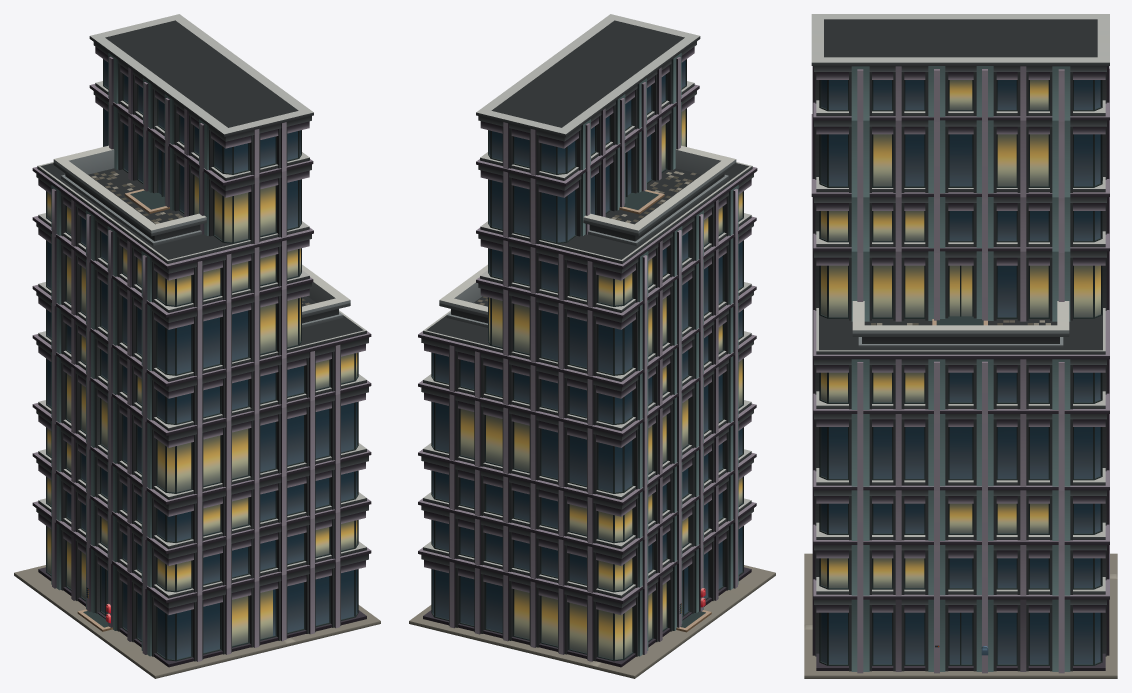
Rendered from Building_21C.fbx.
3 views of the same model, side by side, from view 1: azimuth 30°, elevation 25°; view 2: azimuth 150°, elevation 25°; view 3: azimuth 270°, elevation 25° (orthographic). The views are drawn at different scales.
Parts seen in each view (by area): view 1: Building_21C, Window_Lights_21C; view 2: Building_21C, Window_Lights_21C; view 3: Building_21C, Window_Lights_21C.
Part boxes in pixels (x1,y1,x2,y2): Building_21C: (14, 14, 380, 678); Window_Lights_21C: (47, 175, 357, 645); Building_21C: (409, 14, 775, 678); Window_Lights_21C: (460, 109, 742, 659); Building_21C: (804, 14, 1117, 678); Window_Lights_21C: (821, 80, 1100, 587).
Bounding box in the file's own units: 2400 × 5330 × 2600.
